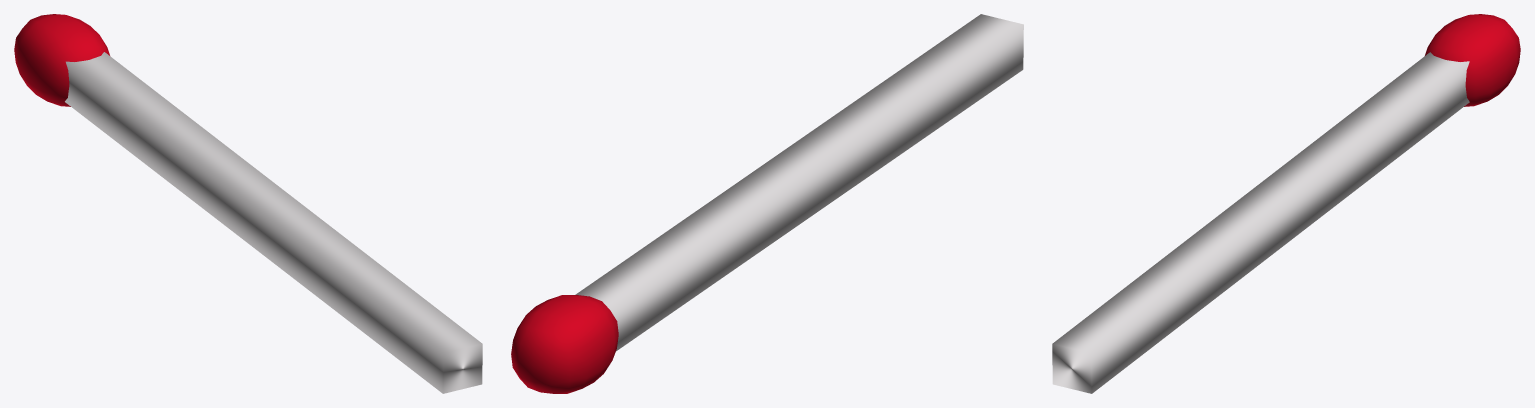
The model's file is Match_Created_By_Tyro_Smith.fbx.
The picture shows the model from 3 angles, left to right: view 1: azimuth 30°, elevation 25°; view 2: azimuth 150°, elevation 25°; view 3: azimuth 330°, elevation 25°; orthographic projection. The views are drawn at different scales.
Visible parts, largest first — view 1: Cube, Cube_001; view 2: Cube, Cube_001; view 3: Cube, Cube_001.
Part boxes in pixels (x1,y1,x2,y2): Cube: (65, 52, 482, 393); Cube_001: (14, 14, 109, 106); Cube: (575, 14, 1023, 351); Cube_001: (511, 295, 618, 393); Cube: (1052, 52, 1469, 393); Cube_001: (1425, 14, 1520, 106).
Size of what is drawn, in the model's own units: 0.1977 by 0.198 by 2.11.
